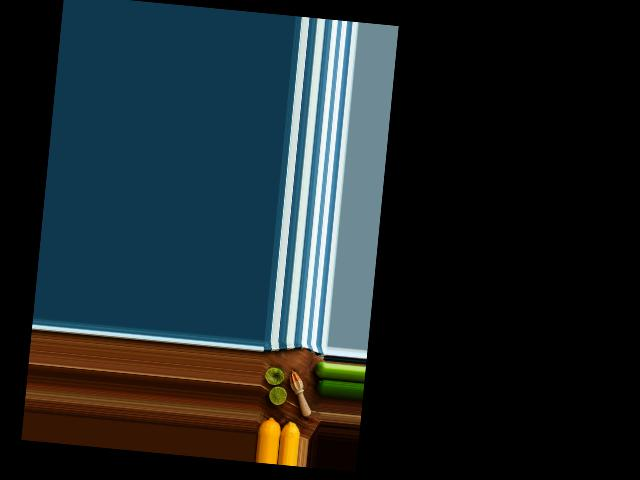lemon: (256, 413, 284, 436)
